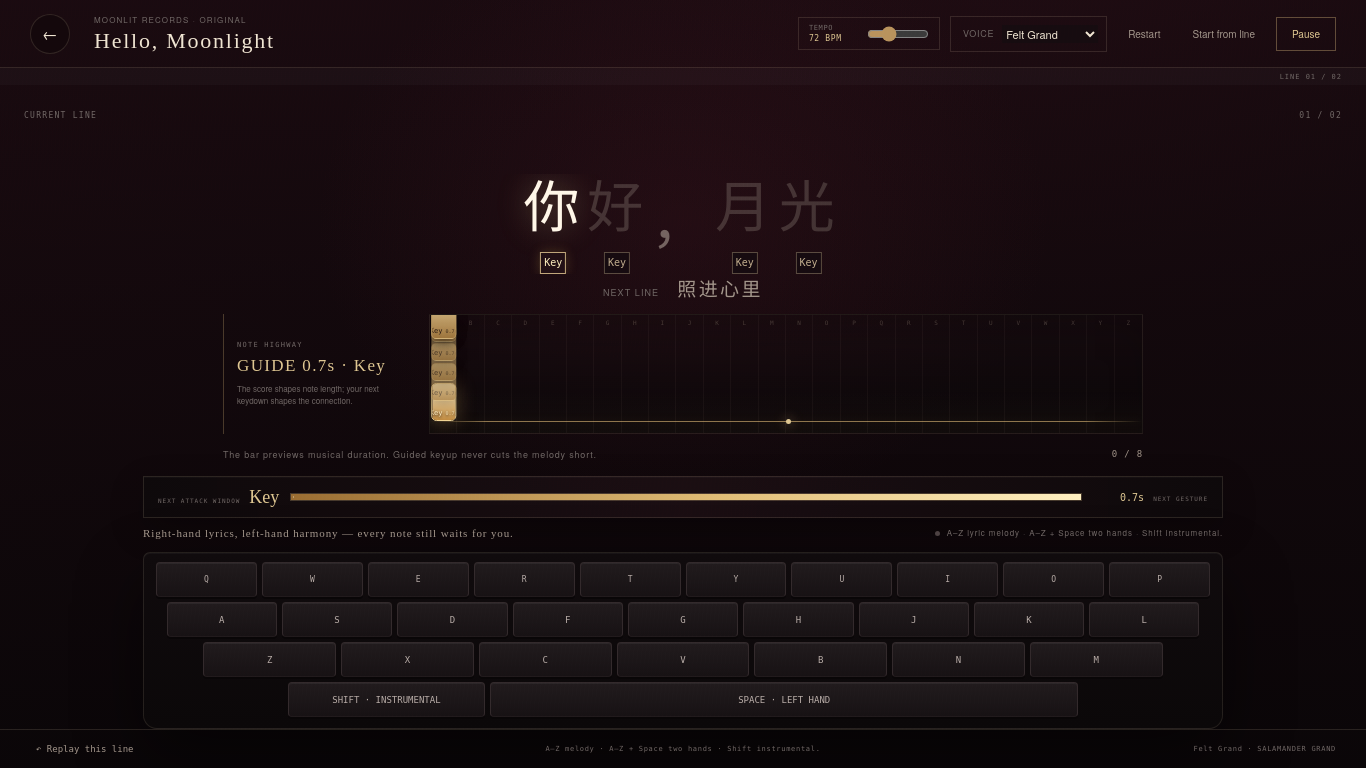
Test case: PlayerShell › offers every lyric phrase in Start From Line and preserves paused status
The image size is (1366, 768).
Click the button "Pause" at (1306, 34), box [1276,16,1336,50]
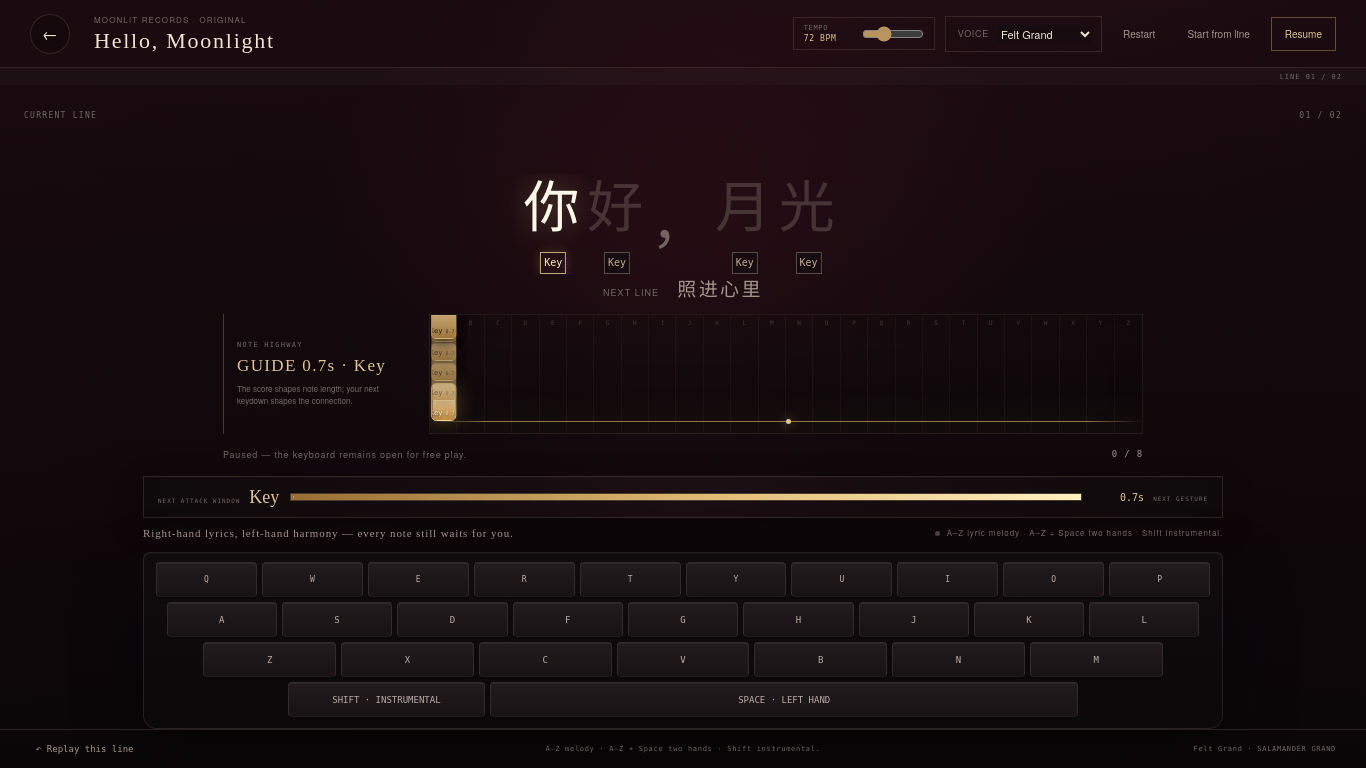
Click the button "Start from line" at (1219, 34), box [1176,18,1261,50]
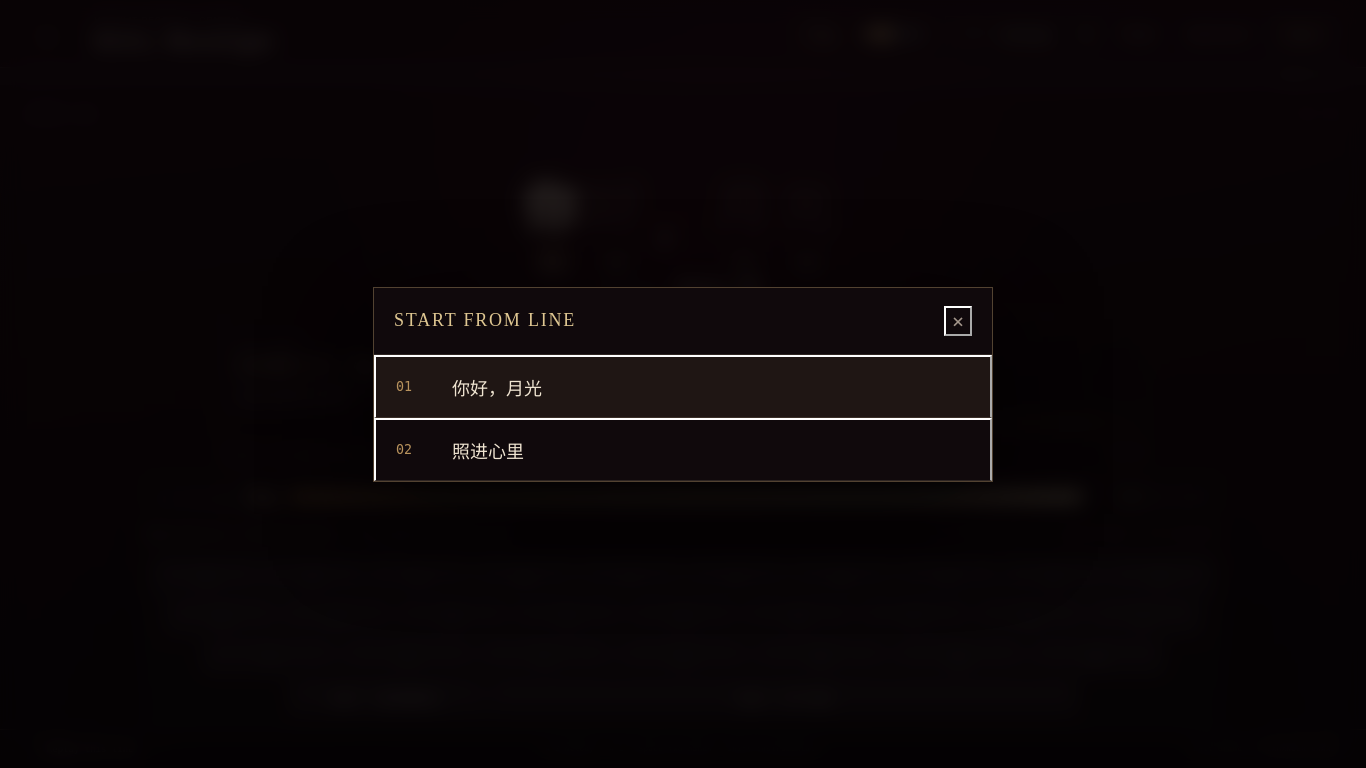
Result: the dialog "START FROM LINE" is shown at [373,286,993,482]
Click the button "02 照进心里" at (488, 452), box [374,418,992,480]
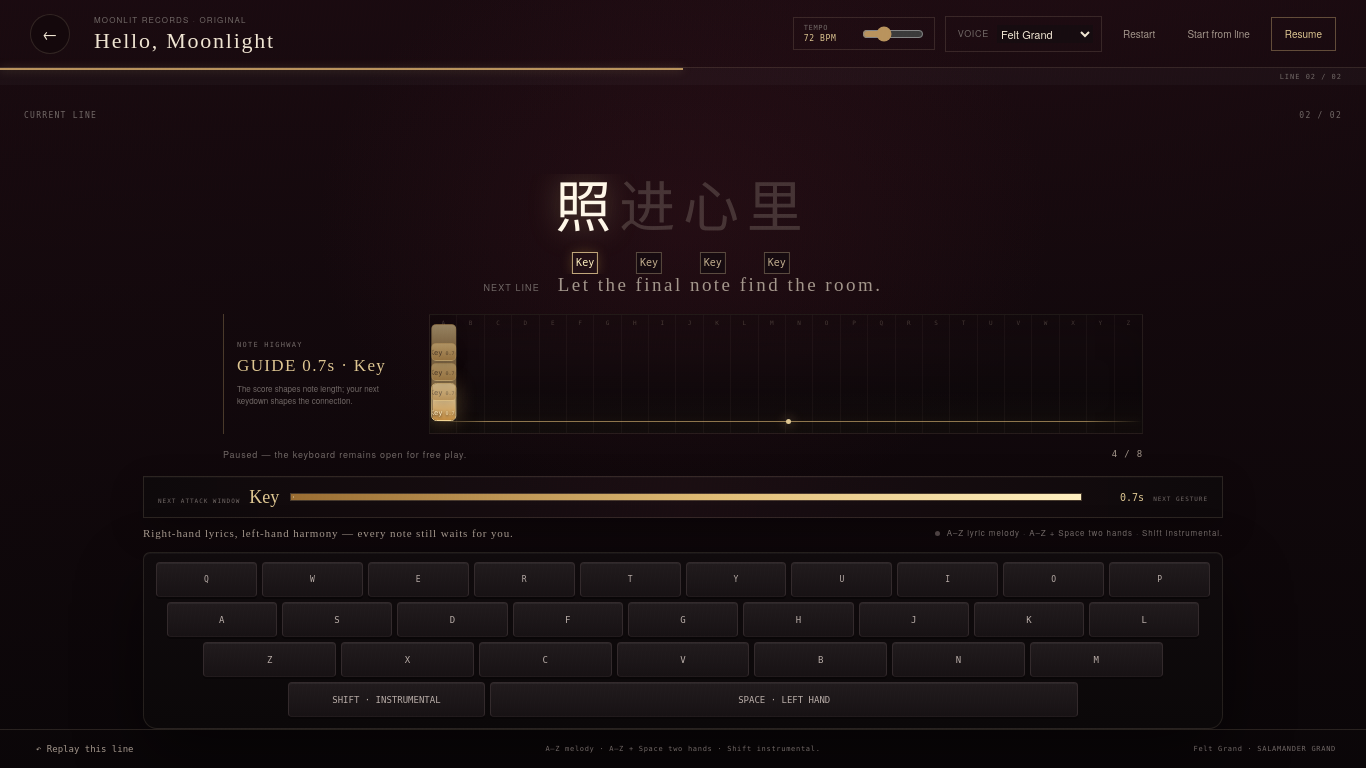
Result: the text "Paused — the keyboard remains open for free play." is shown at [223,448,467,460]
Result: the text "4 / 8" is shown at [1112,449,1143,459]
